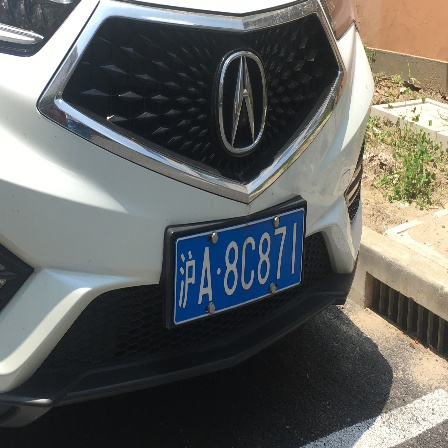plate: (168, 213, 314, 310)
